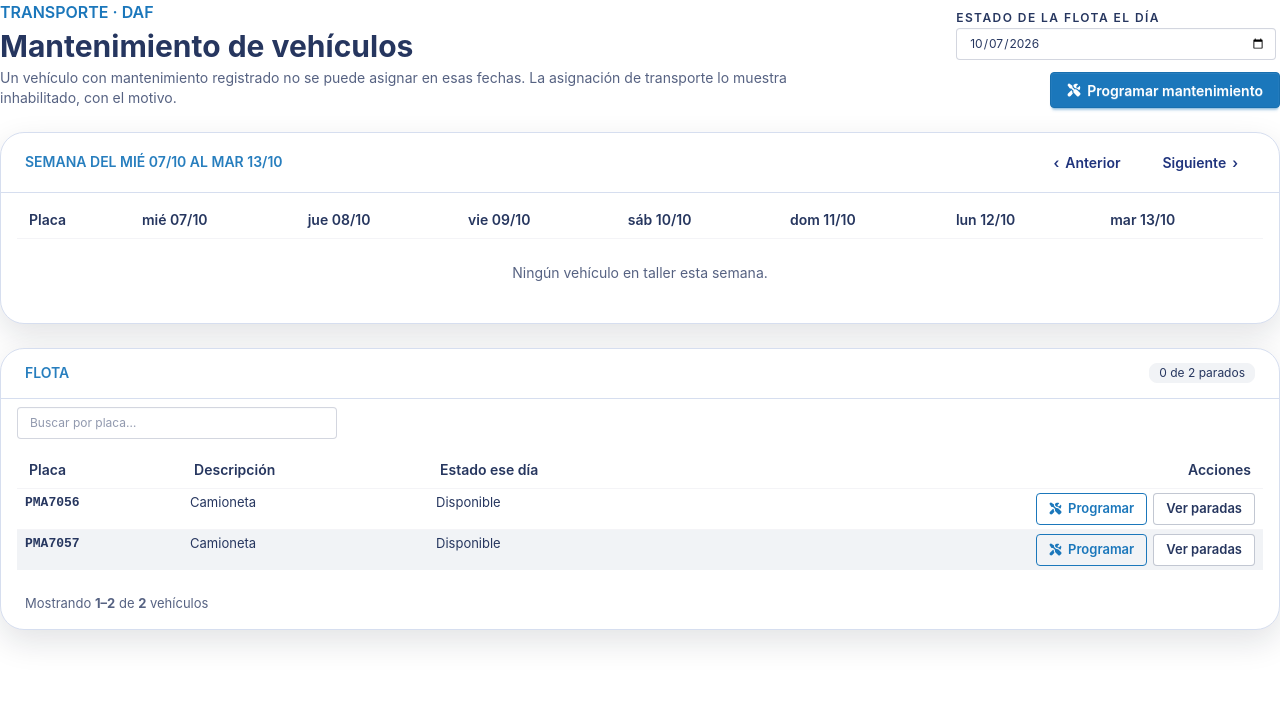
Test: Mantenimiento · «Programar» desde la fila (2026-10-06) › abre el formulario con la placa de esa fila ya elegida
Click the button with aria-label "Programar mantenimiento de PMA7057": (1092, 550) [1036, 534, 1147, 566]
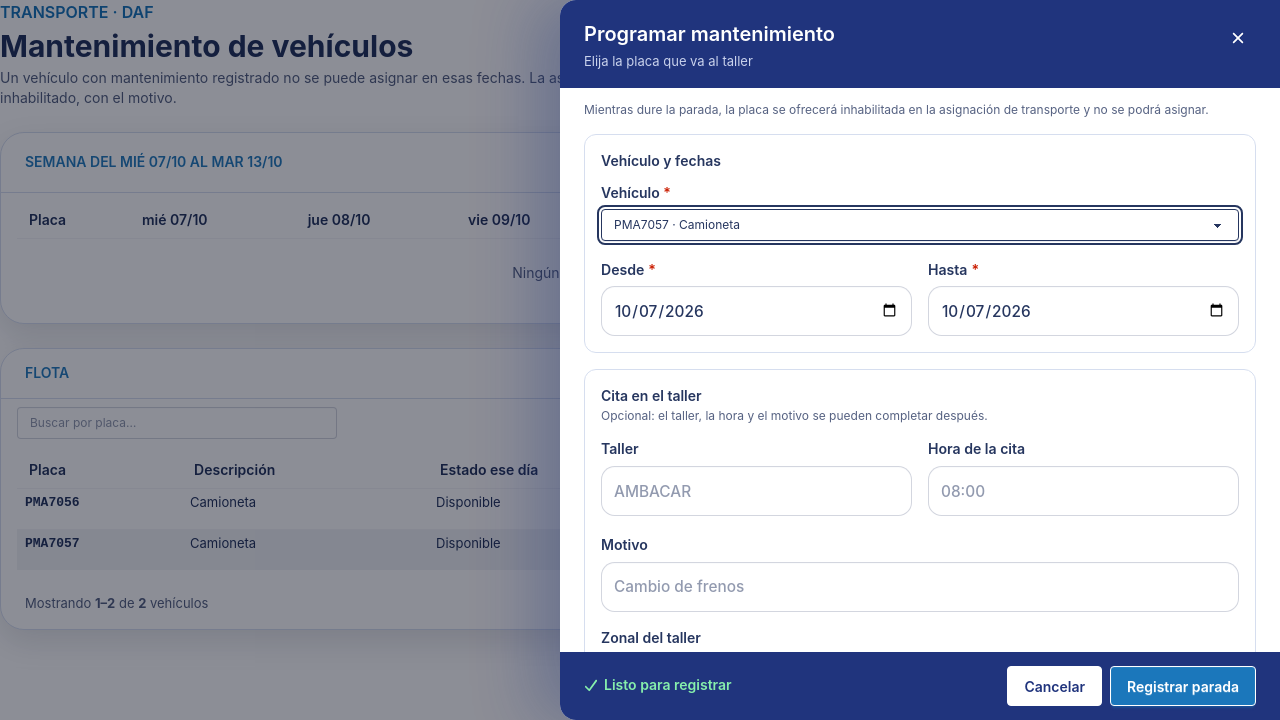
Expected: the dropdown labelled "Vehículo *" shows "PMA7057 · Camioneta", [601, 208, 1239, 240]
